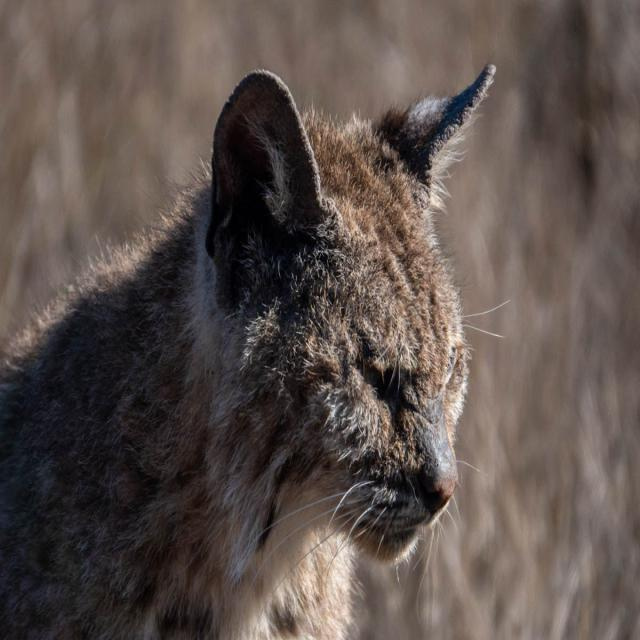cat-scabies: (337, 317, 476, 552), (192, 57, 332, 276), (380, 43, 505, 188)
